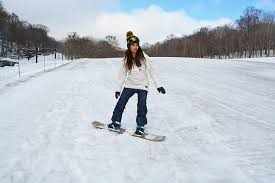snowboarder: (89, 31, 174, 143)
